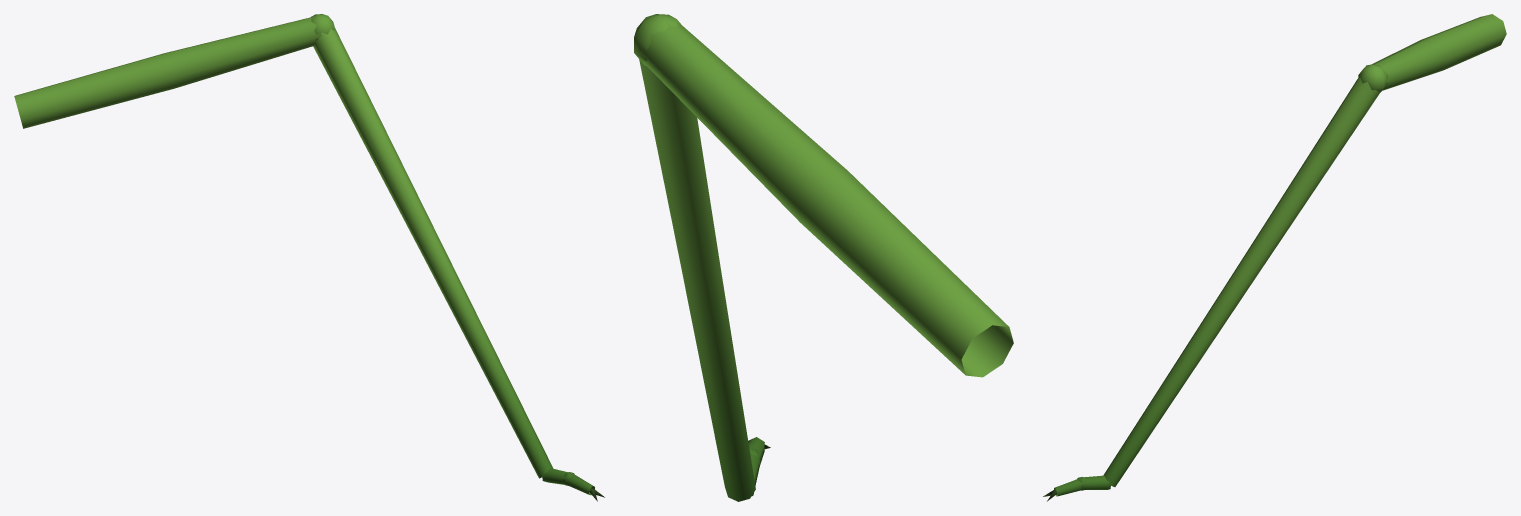
Rendered from Mantis_Leg2.fbx.
3 renders of one model, left to right at view 1: azimuth 30°, elevation 25°; view 2: azimuth 150°, elevation 25°; view 3: azimuth 270°, elevation 25°, orthographic. The views are drawn at different scales.
Parts seen in each view (by area): view 1: Mantis_Leg2; view 2: Mantis_Leg2; view 3: Mantis_Leg2.
Boxes of the visible parts, <box> form: Mantis_Leg2: <box>14,14,604,501</box>; Mantis_Leg2: <box>634,14,1013,501</box>; Mantis_Leg2: <box>1043,14,1506,501</box>.
Size of the model in its own units: 0.5622 by 0.5721 by 0.6323.
